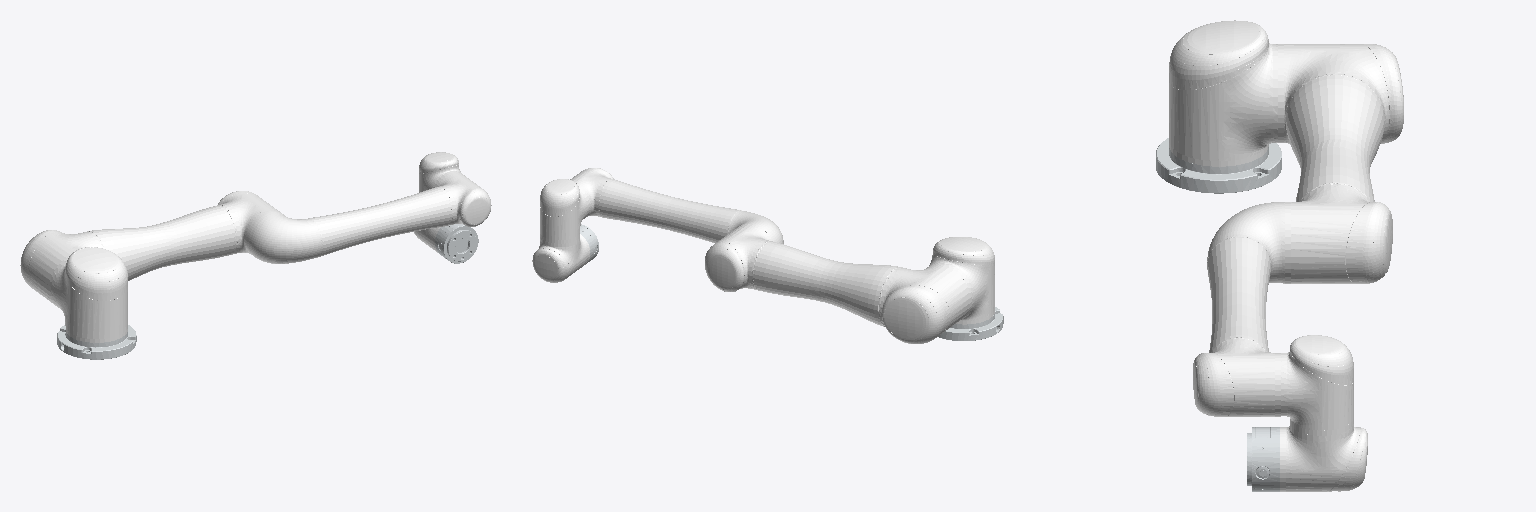
URDF robot description (ec66):
<?xml version="1.0" encoding="utf-8"?>
<!-- This URDF was automatically created by SolidWorks to URDF Exporter! Originally created by [author] ([email redacted]) 
     Commit Version: 1.6.0-1-g15f4949  Build Version: 1.6.7594.29634
     For more information, please see http://wiki.ros.org/sw_urdf_exporter -->
<robot
  name="ec66">
  <link
    name="base_link">
    <inertial>
      <origin
        xyz="0.000397608074828363 -1.29096807323018E-08 0.0126048532896169"
        rpy="0 0 0" />
      <mass
        value="1.11331791916805" />
      <inertia
        ixx="0.00146415393806588"
        ixy="-1.183188977766E-08"
        ixz="1.59388989762753E-06"
        iyy="0.00144024590571973"
        iyz="2.22170924273758E-11"
        izz="0.00277015131706661" />
    </inertial>
    <visual>
      <origin
        xyz="0 0 0"
        rpy="0 0 0" />
      <geometry>
        <mesh
          filename="package://ec66/meshes/base_link.STL" />
      </geometry>
      <material
        name="">
        <color
          rgba="0.898039215686275 0.917647058823529 0.929411764705882 1" />
      </material>
    </visual>
    <collision>
      <origin
        xyz="0 0 0"
        rpy="0 0 0" />
      <geometry>
        <mesh
          filename="package://ec66/meshes/base_link.STL" />
      </geometry>
    </collision>
  </link>
  <link
    name="baseJoint_Link">
    <inertial>
      <origin
        xyz="-2.47498315354449E-06 0.00826039958569003 0.0988378255398768"
        rpy="0 0 0" />
      <mass
        value="4.77747725763671" />
      <inertia
        ixx="0.00849289454076846"
        ixy="-5.32234800519548E-07"
        ixz="7.16578283706854E-08"
        iyy="0.00786131589240539"
        iyz="-0.00101643925063016"
        izz="0.00940237441881192" />
    </inertial>
    <visual>
      <origin
        xyz="0 0 0"
        rpy="0 0 0" />
      <geometry>
        <mesh
          filename="package://ec66/meshes/baseJoint_Link.STL" />
      </geometry>
      <material
        name="">
        <color
          rgba="1 1 1 1" />
      </material>
    </visual>
    <collision>
      <origin
        xyz="0 0 0"
        rpy="0 0 0" />
      <geometry>
        <mesh
          filename="package://ec66/meshes/baseJoint_Link.STL" />
      </geometry>
    </collision>
  </link>
  <joint
    name="baseJoint"
    type="revolute">
    <origin
      xyz="0 0 0"
      rpy="0 0 0" />
    <parent
      link="base_link" />
    <child
      link="baseJoint_Link" />
    <axis
      xyz="0 0 1" />
    <limit
      lower="-6.28"
      upper="6.28"
      effort="26"
      velocity="2.6" />
  </joint>
  <link
    name="shoulderJoint_Link">
    <inertial>
      <origin
        xyz="0.176379424035895 1.5979752906875E-06 0.139316565910418"
        rpy="0 0 0" />
      <mass
        value="13.090272465815" />
      <inertia
        ixx="0.0177158094414229"
        ixy="4.84272694421971E-07"
        ixz="-0.000567522549261307"
        iyy="0.0592307738592172"
        iyz="4.54387099656059E-07"
        izz="0.0603696439068193" />
    </inertial>
    <visual>
      <origin
        xyz="0 0 0"
        rpy="0 0 0" />
      <geometry>
        <mesh
          filename="package://ec66/meshes/shoulderJoint_Link.STL" />
      </geometry>
      <material
        name="">
        <color
          rgba="1 1 1 1" />
      </material>
    </visual>
    <collision>
      <origin
        xyz="0 0 0"
        rpy="0 0 0" />
      <geometry>
        <mesh
          filename="package://ec66/meshes/shoulderJoint_Link.STL" />
      </geometry>
    </collision>
  </link>
  <joint
    name="shoulderJoint"
    type="revolute">
    <origin
      xyz="0 0 0.096"
      rpy="-1.5708 0 0" />
    <parent
      link="baseJoint_Link" />
    <child
      link="shoulderJoint_Link" />
    <axis
      xyz="0 0 1" />
    <limit
      lower="-6.28"
      upper="6.28"
      effort="26"
      velocity="2.6" />
  </joint>
  <link
    name="elbowJoint_Link">
    <inertial>
      <origin
        xyz="0.20071 -8.4375E-06 0.028003"
        rpy="0 0 0" />
      <mass
        value="5.7608" />
      <inertia
        ixx="0.0042193"
        ixy="-1.2634E-07"
        ixz="0.00019659"
        iyy="0.024537"
        iyz="-4.4647E-07"
        izz="0.024537" />
    </inertial>
    <visual>
      <origin
        xyz="0 0 0"
        rpy="0 0 0" />
      <geometry>
        <mesh
          filename="package://ec66/meshes/elbowJoint_Link.STL" />
      </geometry>
      <material
        name="">
        <color
          rgba="1 1 1 1" />
      </material>
    </visual>
    <collision>
      <origin
        xyz="0 0 0"
        rpy="0 0 0" />
      <geometry>
        <mesh
          filename="package://ec66/meshes/elbowJoint_Link.STL" />
      </geometry>
    </collision>
  </link>
  <joint
    name="elbowJoint"
    type="revolute">
    <origin
      xyz="0.418 0 0"
      rpy="0 0 0" />
    <parent
      link="shoulderJoint_Link" />
    <child
      link="elbowJoint_Link" />
    <axis
      xyz="0 0 1" />
    <limit
      lower="-6.28"
      upper="6.28"
      effort="26"
      velocity="3.14" />
  </joint>
  <link
    name="wrist1Joint_Link">
    <inertial>
      <origin
        xyz="-1.0179E-06 -0.00072011 -0.006012"
        rpy="0 0 0" />
      <mass
        value="1.4325" />
      <inertia
        ixx="0.0011124"
        ixy="-3.2957E-08"
        ixz="-3.2784E-08"
        iyy="0.0011805"
        iyz="-0.00015657"
        izz="0.0010097" />
    </inertial>
    <visual>
      <origin
        xyz="0 0 0"
        rpy="0 0 0" />
      <geometry>
        <mesh
          filename="package://ec66/meshes/wrist1Joint_Link.STL" />
      </geometry>
      <material
        name="">
        <color
          rgba="1 1 1 1" />
      </material>
    </visual>
    <collision>
      <origin
        xyz="0 0 0"
        rpy="0 0 0" />
      <geometry>
        <mesh
          filename="package://ec66/meshes/wrist1Joint_Link.STL" />
      </geometry>
    </collision>
  </link>
  <joint
    name="wrist1Joint"
    type="revolute">
    <origin
      xyz="0.398 0 0.122"
      rpy="0 0 0" />
    <parent
      link="elbowJoint_Link" />
    <child
      link="wrist1Joint_Link" />
    <axis
      xyz="0 0 1" />
    <limit
      lower="-6.28"
      upper="6.28"
      effort="26"
      velocity="3.9" />
  </joint>
  <link
    name="wrist2Joint_Link">
    <inertial>
      <origin
        xyz="-1.0206E-06 -0.0007201 -0.006012"
        rpy="0 0 0" />
      <mass
        value="1.4325" />
      <inertia
        ixx="0.0011124"
        ixy="-3.2951E-08"
        ixz="-3.2928E-08"
        iyy="0.0011805"
        iyz="-0.00015657"
        izz="0.0010097" />
    </inertial>
    <visual>
      <origin
        xyz="0 0 0"
        rpy="0 0 0" />
      <geometry>
        <mesh
          filename="package://ec66/meshes/wrist2Joint_Link.STL" />
      </geometry>
      <material
        name="">
        <color
          rgba="1 1 1 1" />
      </material>
    </visual>
    <collision>
      <origin
        xyz="0 0 0"
        rpy="0 0 0" />
      <geometry>
        <mesh
          filename="package://ec66/meshes/wrist2Joint_Link.STL" />
      </geometry>
    </collision>
  </link>
  <joint
    name="wrist2Joint"
    type="revolute">
    <origin
      xyz="0 0.098 0"
      rpy="-1.5708 0 0" />
    <parent
      link="wrist1Joint_Link" />
    <child
      link="wrist2Joint_Link" />
    <axis
      xyz="0 0 1" />
    <limit
      lower="-6.28"
      upper="6.28"
      effort="26"
      velocity="3.9" />
  </joint>
  <link
    name="wrist3Joint_Link">
    <inertial>
      <origin
        xyz="-1.5919E-08 2.6113E-05 -0.021169"
        rpy="0 0 0" />
      <mass
        value="0.44188" />
      <inertia
        ixx="0.00020868"
        ixy="-1.5481E-09"
        ixz="-2.5463E-10"
        iyy="0.0002079"
        iyz="-2.0995E-07"
        izz="0.00031474" />
    </inertial>
    <visual>
      <origin
        xyz="0 0 0"
        rpy="0 0 0" />
      <geometry>
        <mesh
          filename="package://ec66/meshes/wrist3Joint_Link.STL" />
      </geometry>
      <material
        name="">
        <color
          rgba="0.89804 0.91765 0.92941 1" />
      </material>
    </visual>
    <collision>
      <origin
        xyz="0 0 0"
        rpy="0 0 0" />
      <geometry>
        <mesh
          filename="package://ec66/meshes/wrist3Joint_Link.STL" />
      </geometry>
    </collision>
  </link>
  <joint
    name="wrist3Joint"
    type="revolute">
    <origin
      xyz="0 0.089 0"
      rpy="-1.5708 0 0" />
    <parent
      link="wrist2Joint_Link" />
    <child
      link="wrist3Joint_Link" />
    <axis
      xyz="0 0 1" />
    <limit
      lower="-6.28"
      upper="6.28"
      effort="26"
      velocity="3.9" />
  </joint>
</robot>

--- Facts derived from the render (not from the file) ---
The picture shows the robot from 3 angles, left to right: view 1: azimuth 30°, elevation 25°; view 2: azimuth 150°, elevation 25°; view 3: azimuth 270°, elevation 25°; orthographic projection.
Model ec66 with 7 links and 6 joints (6 revolute), rooted at base_link, posed all joints at 0.
Links seen in each view (by area): view 1: shoulderJoint_Link, elbowJoint_Link, baseJoint_Link, base_link, wrist3Joint_Link, wrist1Joint_Link; view 2: shoulderJoint_Link, elbowJoint_Link, baseJoint_Link, wrist1Joint_Link, wrist2Joint_Link, base_link; view 3: shoulderJoint_Link, elbowJoint_Link, baseJoint_Link, wrist1Joint_Link, wrist2Joint_Link, base_link, wrist3Joint_Link.
Boxes of the visible links, <box> form: shoulderJoint_Link: <box>20,191,280,305</box>; elbowJoint_Link: <box>246,173,491,263</box>; baseJoint_Link: <box>51,247,127,342</box>; base_link: <box>57,325,136,359</box>; wrist3Joint_Link: <box>435,224,478,263</box>; wrist1Joint_Link: <box>419,152,461,192</box>; shoulderJoint_Link: <box>705,224,971,343</box>; elbowJoint_Link: <box>570,168,783,243</box>; baseJoint_Link: <box>929,237,994,324</box>; wrist1Joint_Link: <box>540,179,589,243</box>; wrist2Joint_Link: <box>532,234,589,282</box>; base_link: <box>938,307,1003,340</box>; shoulderJoint_Link: <box>1278,44,1403,283</box>; elbowJoint_Link: <box>1193,202,1284,416</box>; baseJoint_Link: <box>1169,20,1277,166</box>; wrist1Joint_Link: <box>1281,335,1353,435</box>; wrist2Joint_Link: <box>1280,424,1367,491</box>; base_link: <box>1156,138,1281,193</box>; wrist3Joint_Link: <box>1247,427,1279,491</box>.
Size in the robot's own frame: 0.9291 by 0.2947 by 0.2177 metres.
Meshes: 7 distinct files referenced, 7 mesh visuals loaded (7 binary STL).